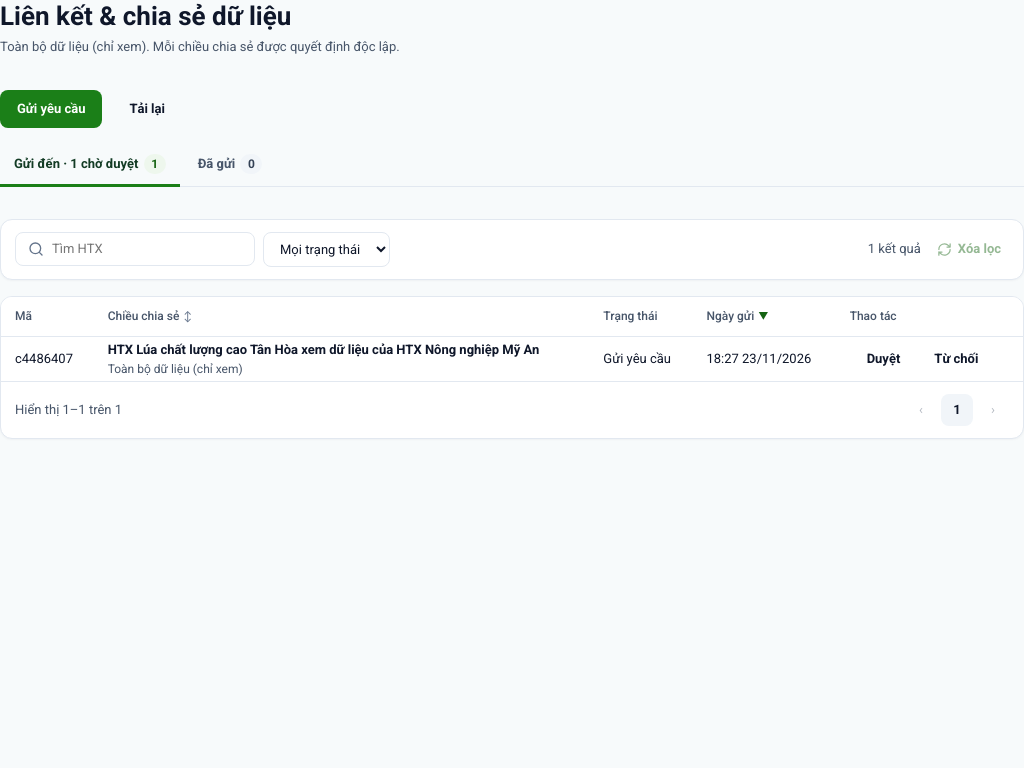
Scenario: [FN-09/AC-02, AC-03] incoming request shows pending count; owner approves then revokes
Check: the button "Thu hồi" is not shown
Click the button "Duyệt": [883, 359] box x1=850 y1=340 x2=917 y2=378
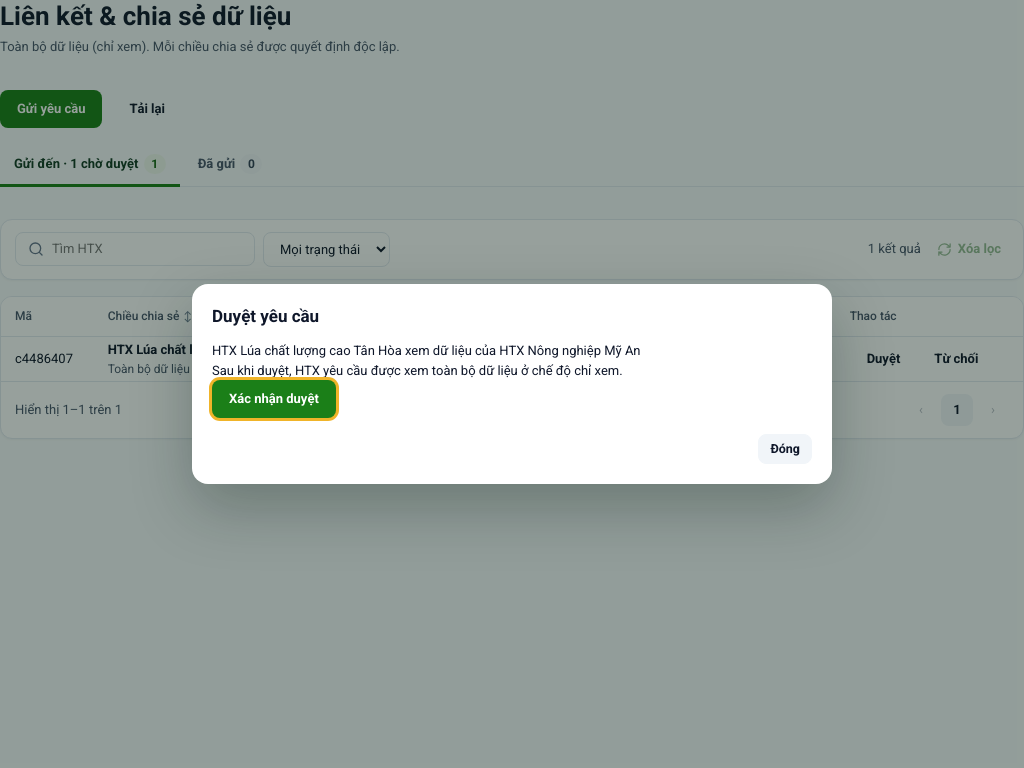
Check: the text "Sau khi duyệt, HTX yêu cầu được xem toàn bộ dữ liệu ở chế độ chỉ xem." is shown, box x1=212 y1=363 x2=623 y2=378
Click the button "Xác nhận duyệt": [274, 399] box x1=212 y1=380 x2=336 y2=418
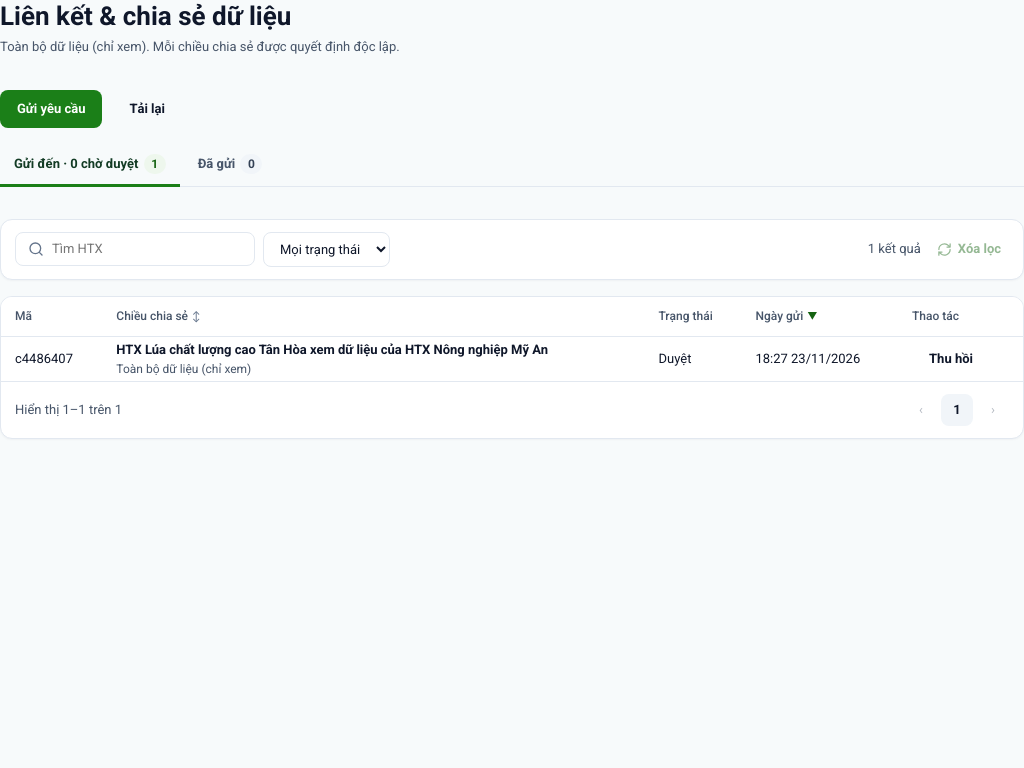
Check: the text "Duyệt" is shown, box x1=644 y1=337 x2=741 y2=381
Check: the tab "Gửi đến · 0 chờ duyệt 1" is shown, box x1=0 y1=144 x2=180 y2=186
Click the button "Thu hồi": [951, 359] box x1=912 y1=340 x2=990 y2=378
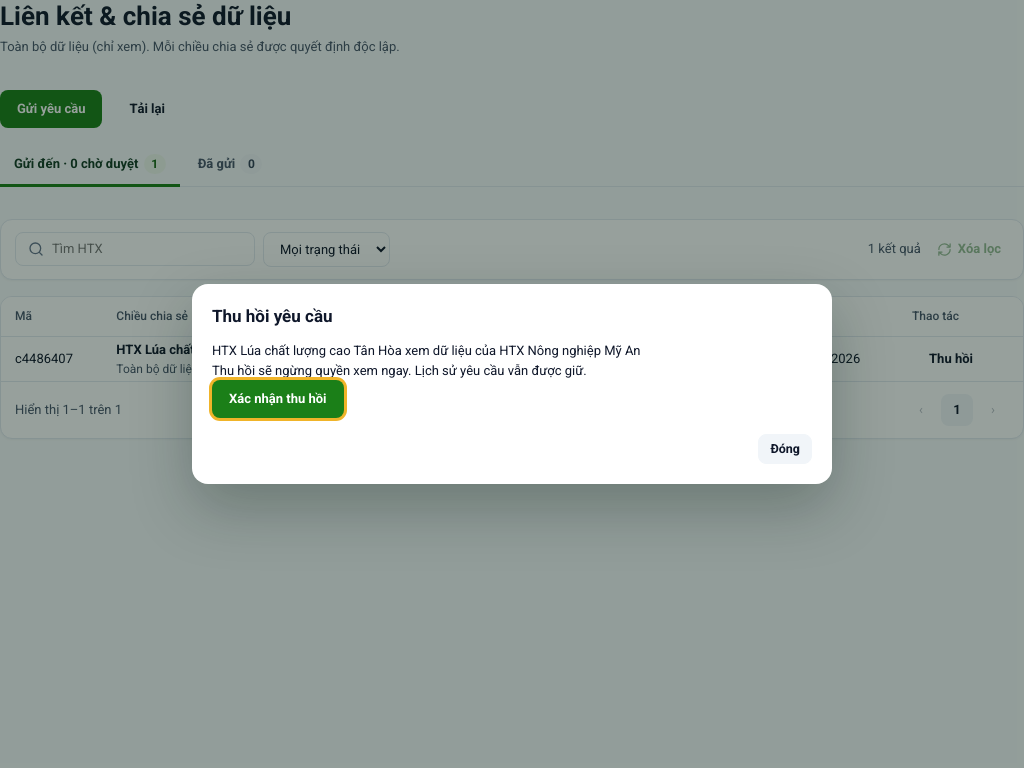
Click the button "Xác nhận thu hồi": [278, 399] box x1=212 y1=380 x2=344 y2=418
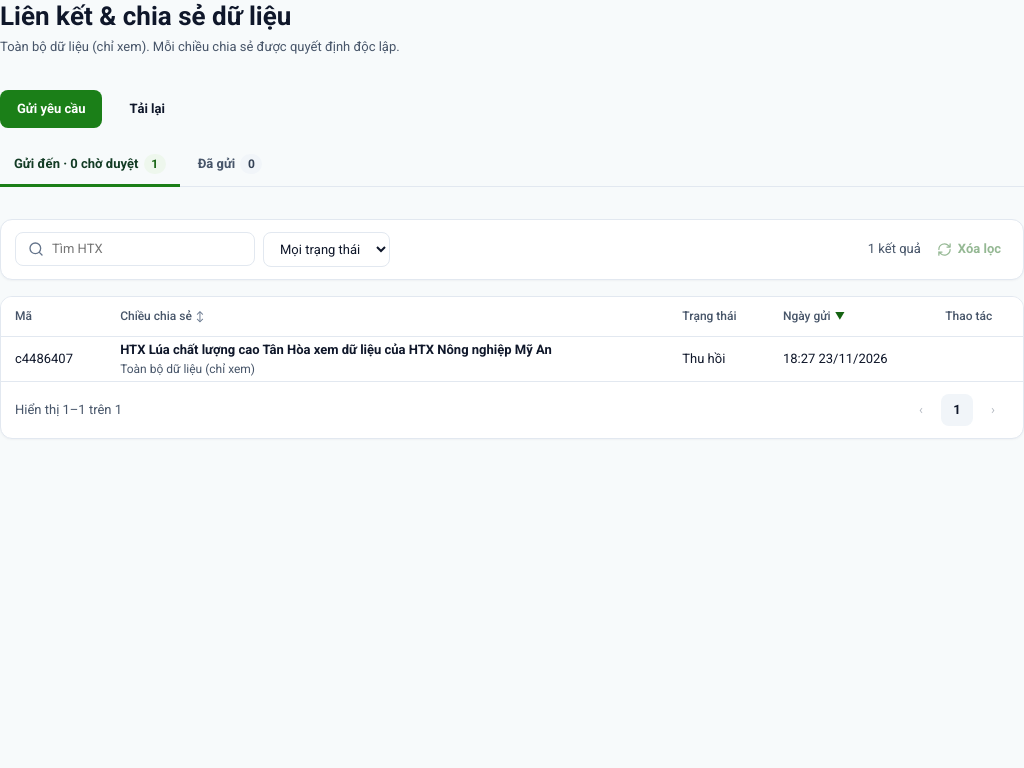
Check: the text "Thu hồi" is shown, box x1=668 y1=337 x2=769 y2=381
